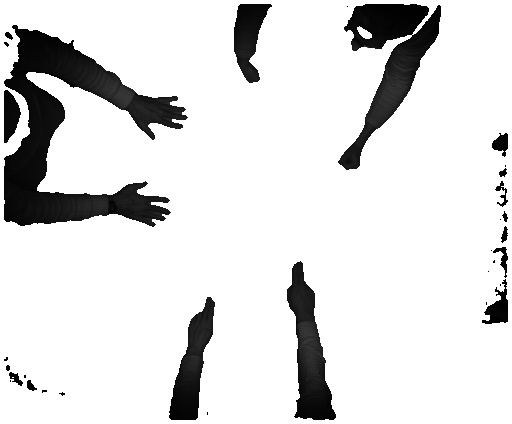fist: (336, 144, 364, 175), (232, 66, 263, 87)
hand: (115, 180, 175, 231), (136, 95, 191, 143), (280, 256, 319, 318), (184, 296, 215, 352)
